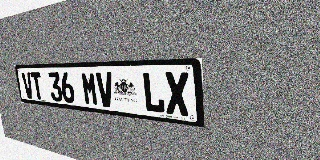3: (48, 72, 63, 102)
6: (59, 72, 75, 103)
L: (142, 72, 166, 114)
M: (81, 72, 99, 106)
T: (30, 72, 44, 100)
V: (95, 72, 115, 108), (21, 72, 34, 99)
X: (164, 72, 190, 116)
